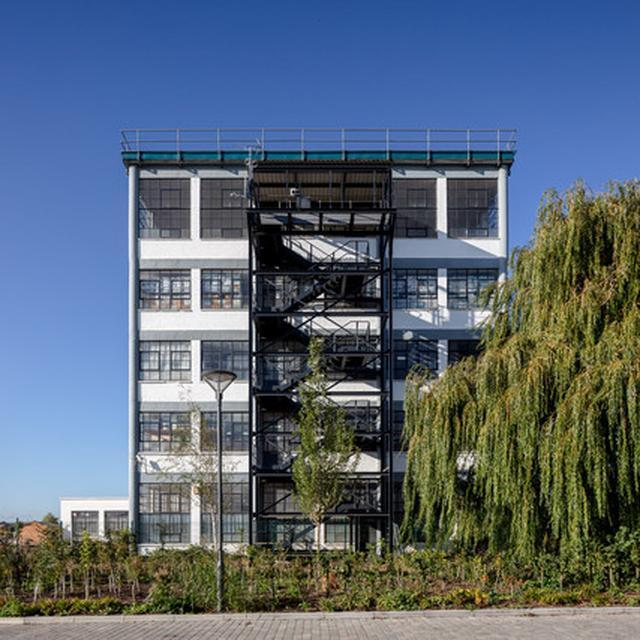building: (119, 129, 529, 556), (56, 490, 135, 542)
